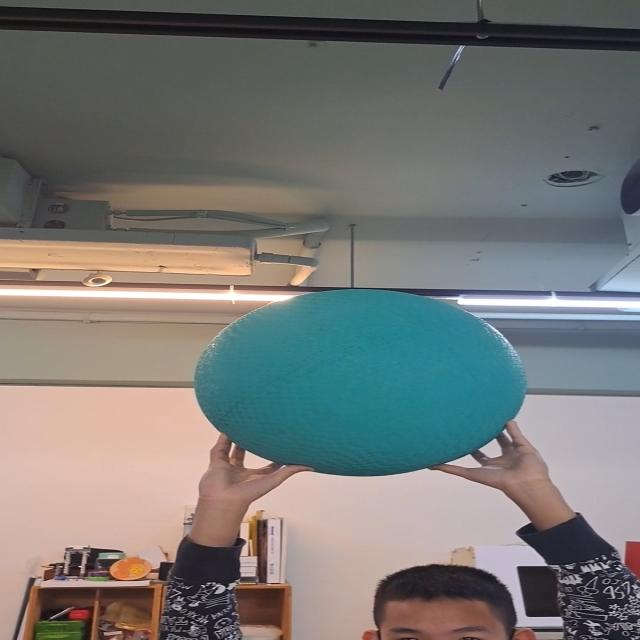ALGAE: (194, 288, 525, 476)
